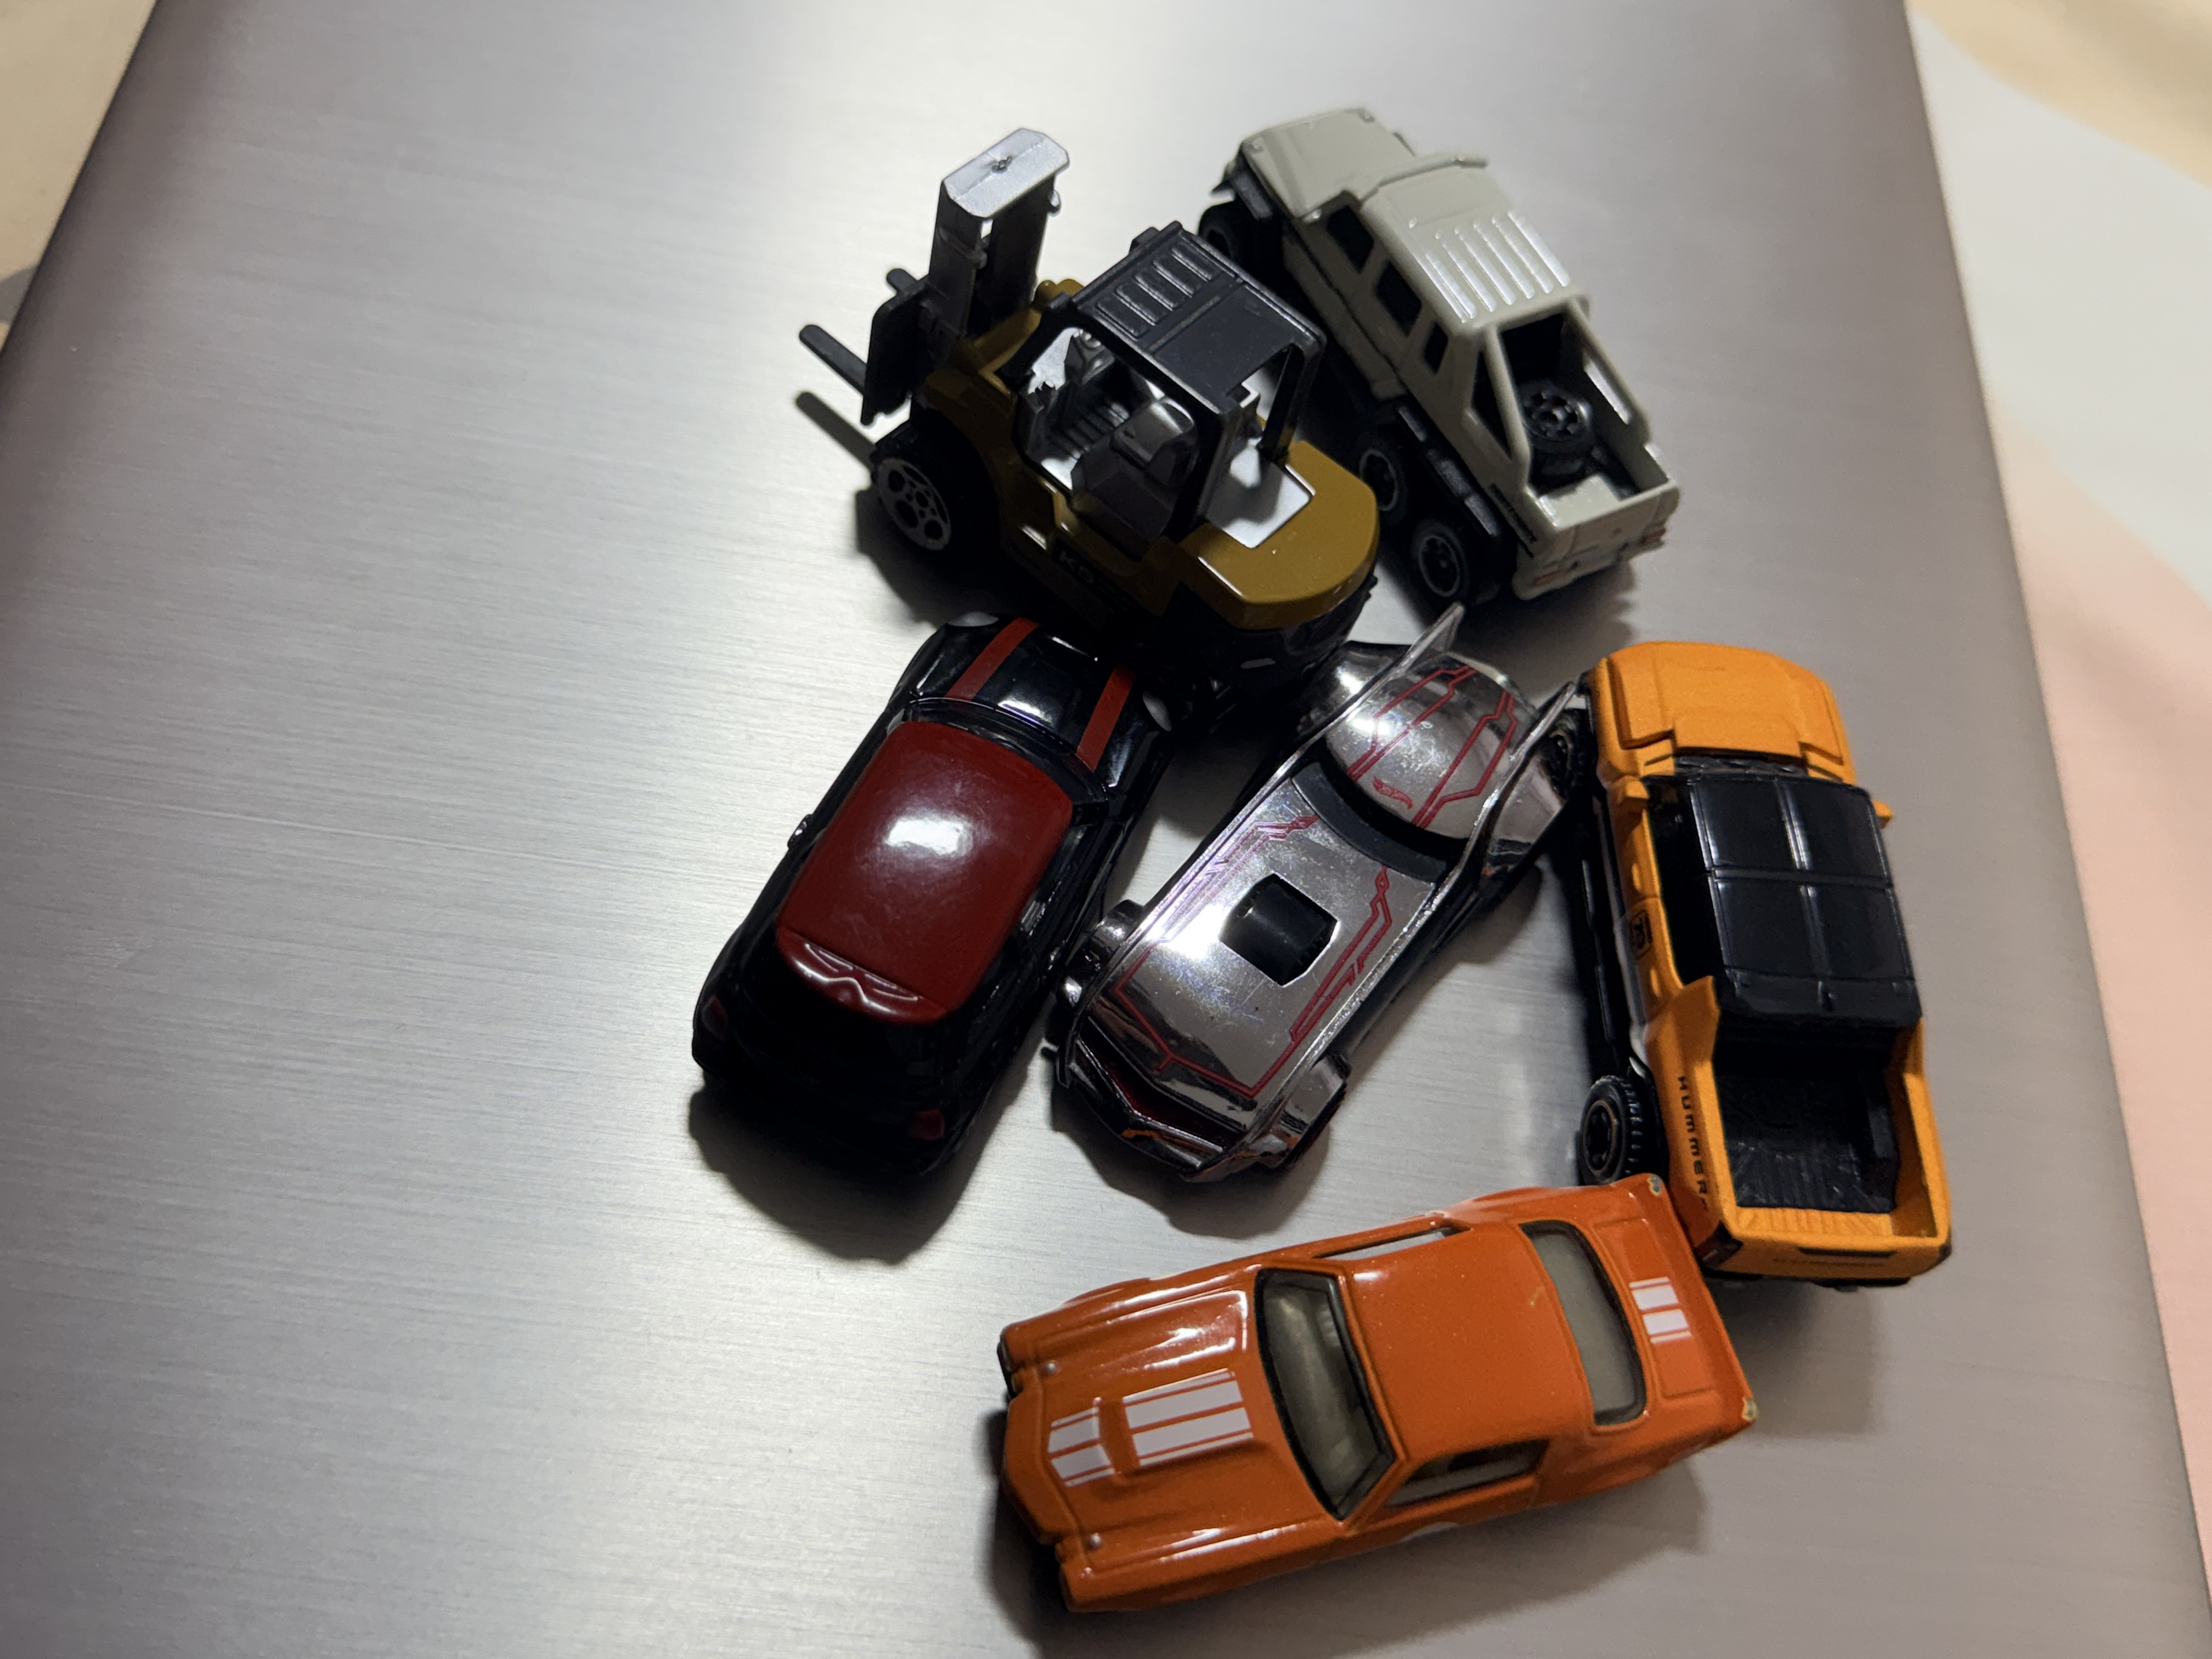camaro_rs: (996, 1173, 1756, 1622)
dc_comics: (1045, 606, 1580, 1183)
forklift: (796, 122, 1383, 734)
gmc_hummer: (1555, 640, 1958, 1293)
mercedes_benz: (1204, 103, 1681, 606)
mini_cooper: (688, 608, 1174, 1183)
